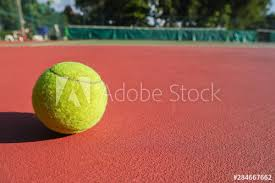tennis_ball: (31, 60, 108, 134)
